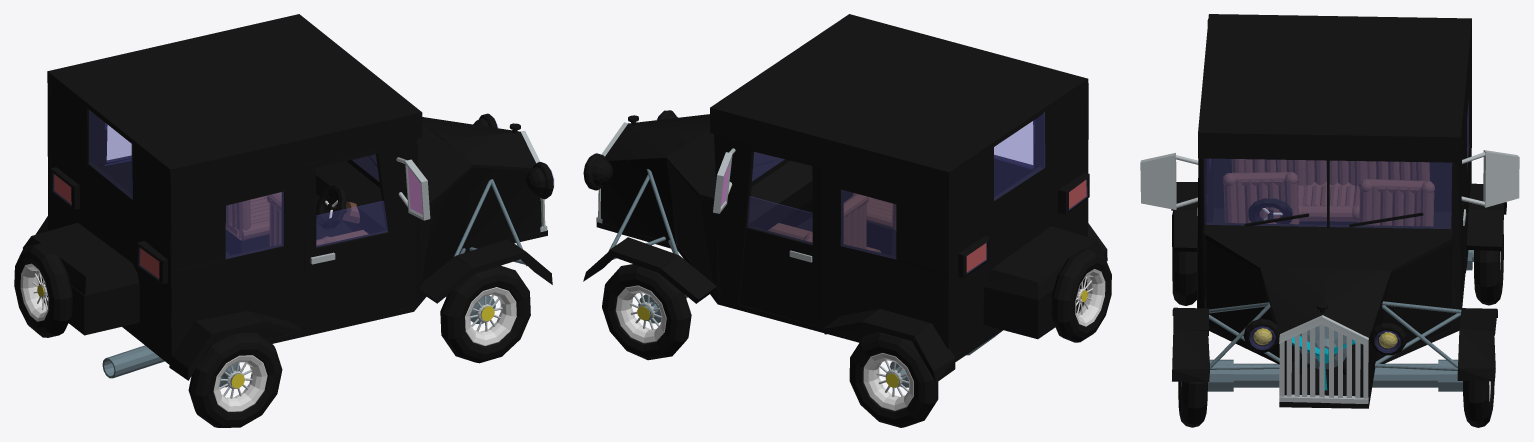
The model's file is old-car-model.gltf.
3 views of the same model, side by side, from view 1: azimuth 30°, elevation 25°; view 2: azimuth 150°, elevation 25°; view 3: azimuth 270°, elevation 25° (orthographic).
Parts seen in each view (by area): view 1: node_MeshObject-69283840-PolyPaper23, node_MeshObject-2075934720-PolyPaper20, node_MeshObject502795264-PolyGlass24, node_MeshObject1646953472-PolyPaper23; view 2: node_MeshObject-69283840-PolyPaper23, node_MeshObject-2075934720-PolyPaper20, node_MeshObject1646953472-PolyPaper23, node_MeshObject502795264-PolyGlass24; view 3: node_MeshObject-69283840-PolyPaper23, node_MeshObject502795264-PolyGlass24, node_MeshObject-2075934720-PolyPaper20, node_MeshObject1646953472-PolyPaper23.
Part boxes in pixels (bbox=[...]): node_MeshObject-69283840-PolyPaper23: bbox=[23, 14, 547, 427]; node_MeshObject-2075934720-PolyPaper20: bbox=[14, 148, 552, 388]; node_MeshObject502795264-PolyGlass24: bbox=[53, 110, 554, 279]; node_MeshObject1646953472-PolyPaper23: bbox=[51, 162, 553, 363]; node_MeshObject-69283840-PolyPaper23: bbox=[583, 14, 1104, 387]; node_MeshObject-2075934720-PolyPaper20: bbox=[583, 144, 1111, 387]; node_MeshObject1646953472-PolyPaper23: bbox=[602, 110, 989, 427]; node_MeshObject502795264-PolyGlass24: bbox=[656, 112, 1087, 273]; node_MeshObject-69283840-PolyPaper23: bbox=[1140, 14, 1473, 408]; node_MeshObject502795264-PolyGlass24: bbox=[1204, 103, 1468, 352]; node_MeshObject-2075934720-PolyPaper20: bbox=[1171, 121, 1506, 381]; node_MeshObject1646953472-PolyPaper23: bbox=[1178, 150, 1519, 427].
Size of the model in its own units: 4.6 by 2.37 by 3.1.
